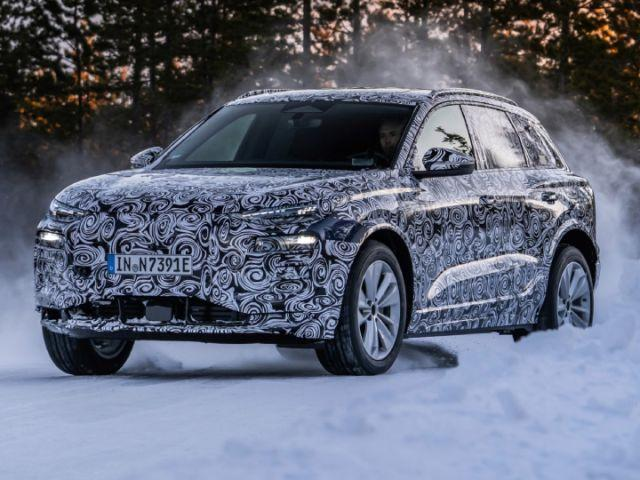audi: (32, 88, 602, 376)
